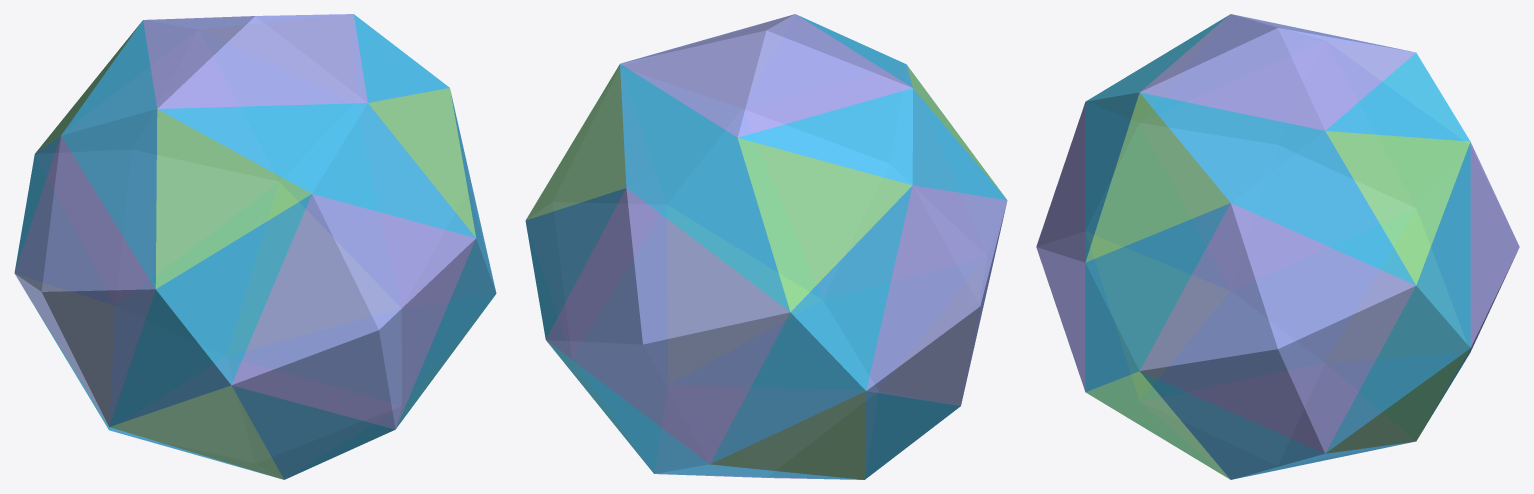
Rendered from BiscribedTetrakisSnubCube.obj.
3 renders of one model, left to right at view 1: azimuth 30°, elevation 25°; view 2: azimuth 150°, elevation 25°; view 3: azimuth 270°, elevation 25°, orthographic. The views are drawn at different scales.
Size of the model in its own units: 2 by 2 by 2.
